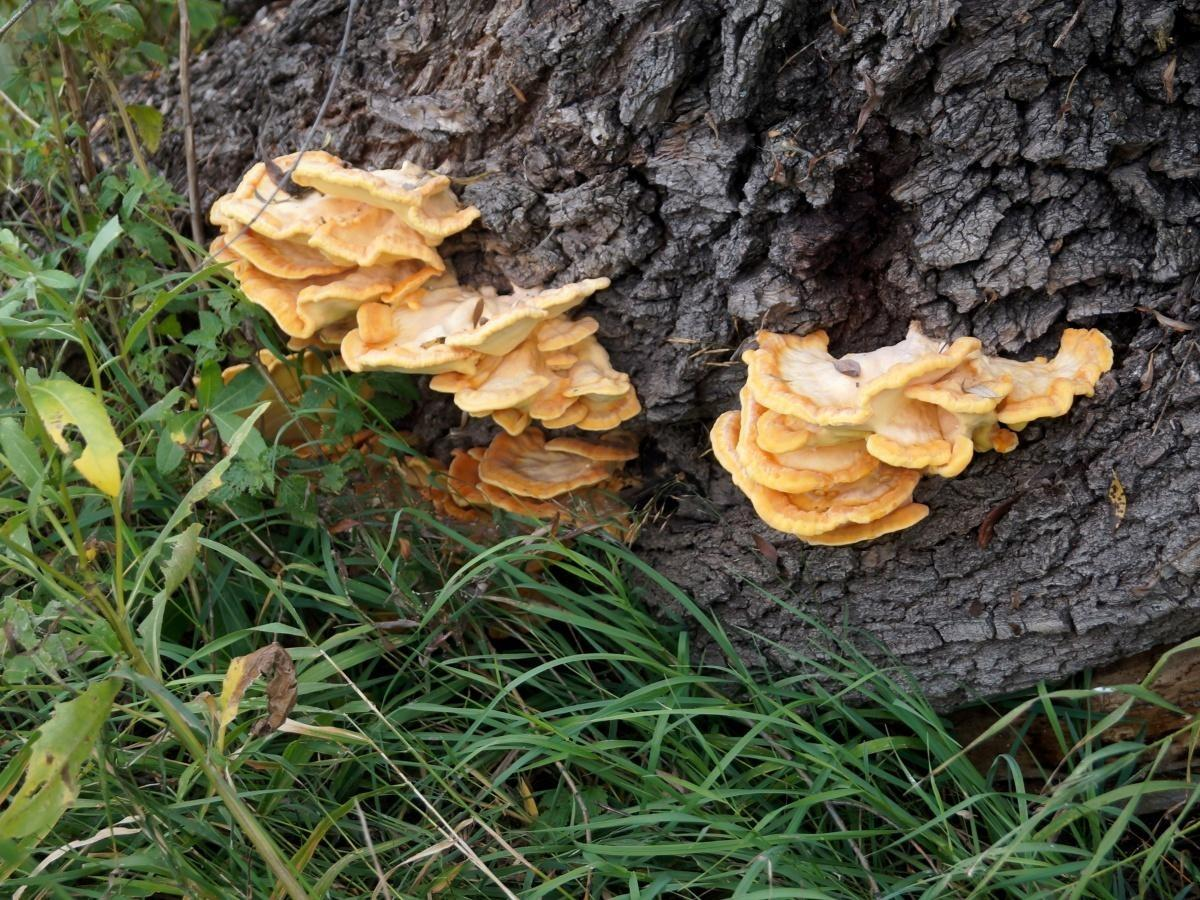Sulphur-yellow tinder fungus: (173, 147, 657, 521), (668, 307, 1174, 574)
